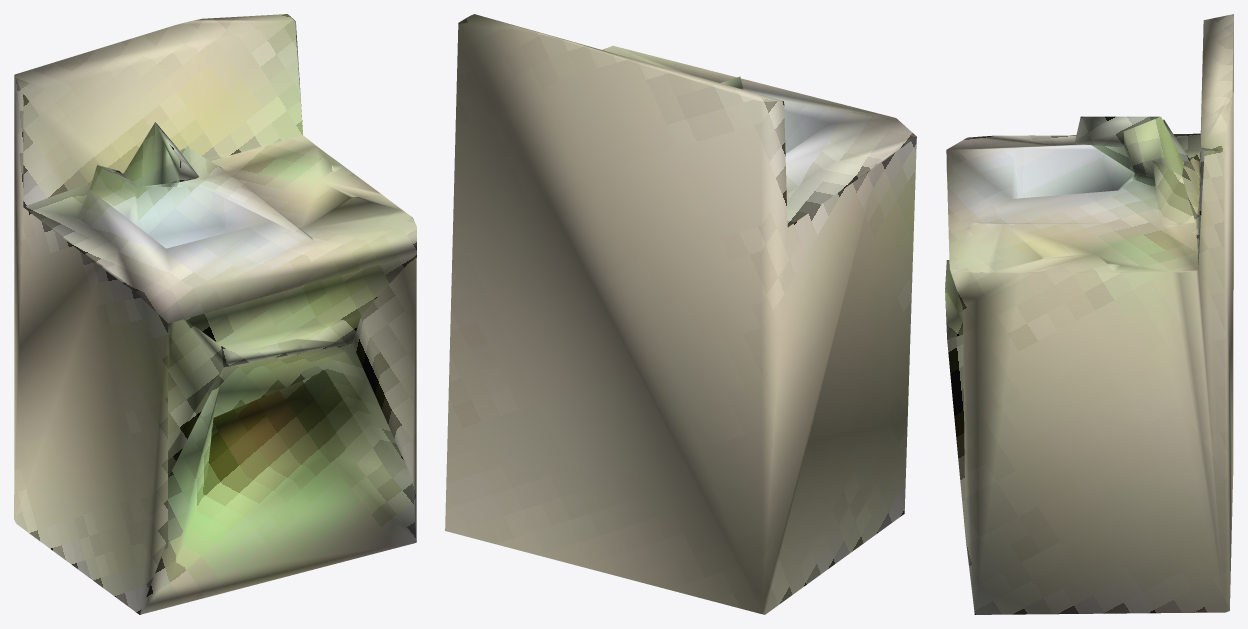
The model's file is 3D_Dollhouse_Sink-low.glb.
3 renders of one model, left to right at view 1: azimuth 30°, elevation 25°; view 2: azimuth 150°, elevation 25°; view 3: azimuth 270°, elevation 25°, orthographic. The views are drawn at different scales.
Visible parts, largest first — view 1: 3D_Dollhouse_Sink; view 2: 3D_Dollhouse_Sink; view 3: 3D_Dollhouse_Sink.
Boxes of the visible parts, x1=… form: 3D_Dollhouse_Sink: x1=14, y1=14, x2=416, y2=614; 3D_Dollhouse_Sink: x1=445, y1=14, x2=916, y2=614; 3D_Dollhouse_Sink: x1=945, y1=14, x2=1233, y2=614.
Size of the model in its own units: 0.0844 by 0.1303 by 0.0715.
Materials: 1 (1 with a texture image).
